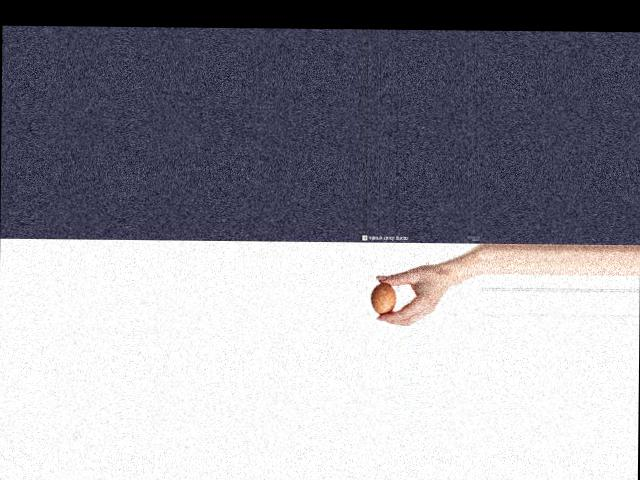egg: (370, 282, 397, 314)
